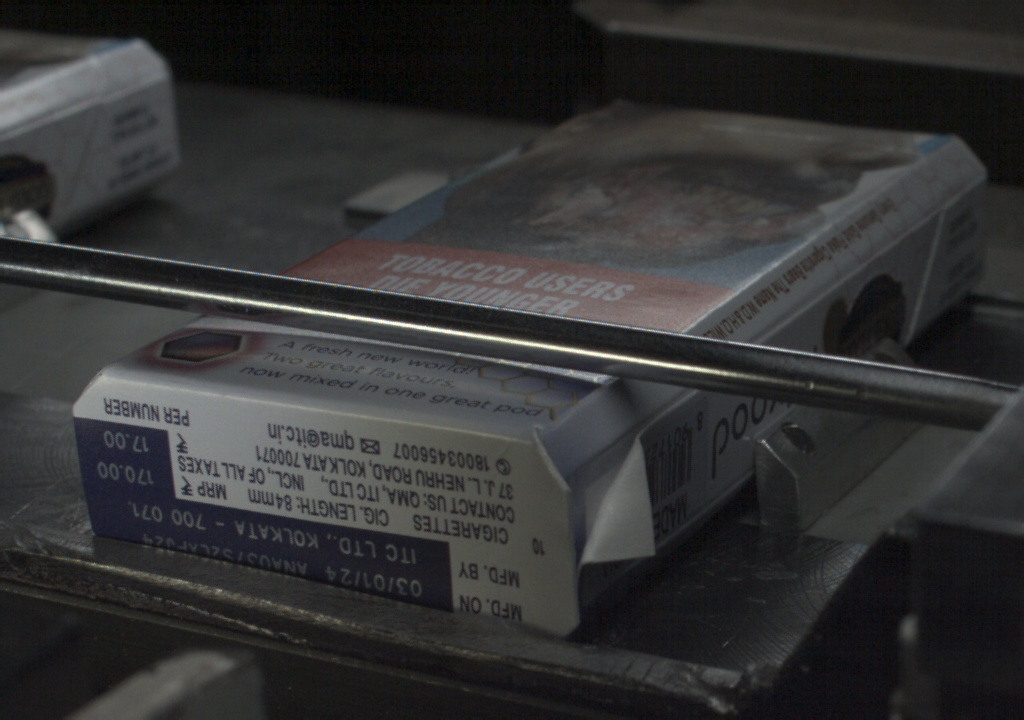g_bottom: (68, 370, 575, 638)
g_label: (96, 499, 456, 614)
g_lmiter: (850, 216, 935, 275), (758, 278, 843, 337)
g_miter: (937, 169, 987, 215)
ng_lmiter: (578, 423, 661, 563)
price: (79, 424, 172, 496)
